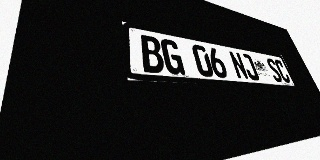0: (191, 44, 215, 77)
6: (206, 47, 229, 78)
B: (139, 34, 166, 74)
C: (273, 59, 292, 83)
G: (160, 38, 186, 75)
J: (240, 53, 260, 81)
N: (228, 51, 250, 80)
S: (265, 58, 284, 82)
